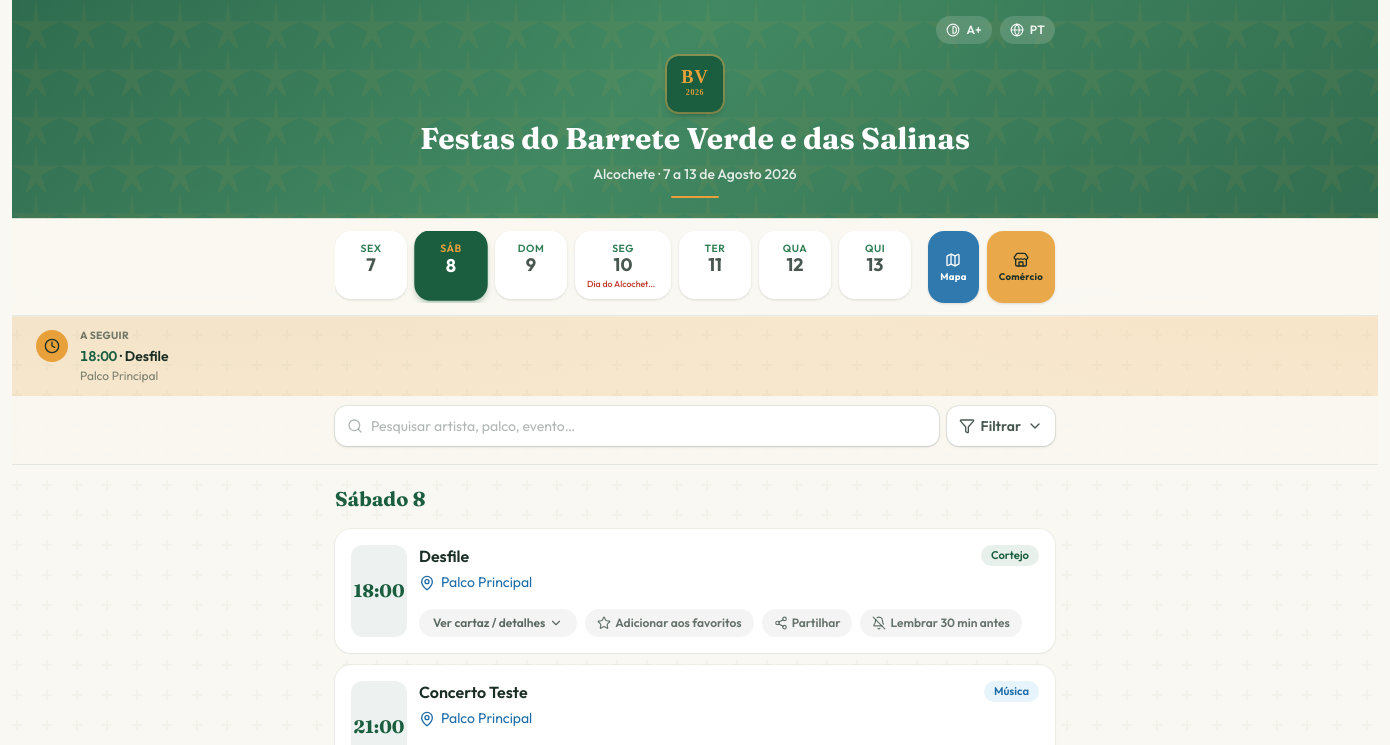
Test: PublicProgram › shows empty favorites state
Check: the heading "Concerto Teste" is shown, box [419,682,528,702]
Step 1. Click the button "Filtrar" → click(1001, 426), box [947,406,1055,446]
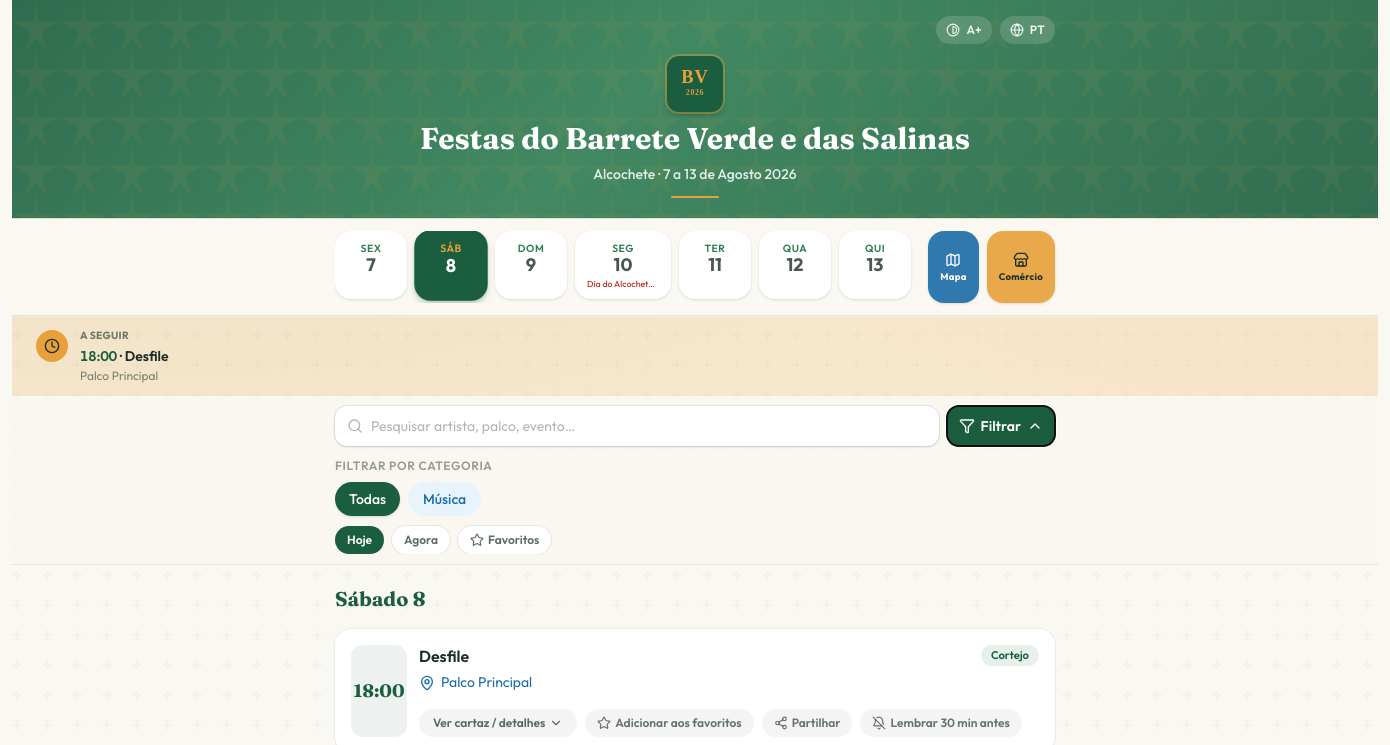
Step 2. Click the button "Favoritos" → click(505, 540), box [458,526,551,554]
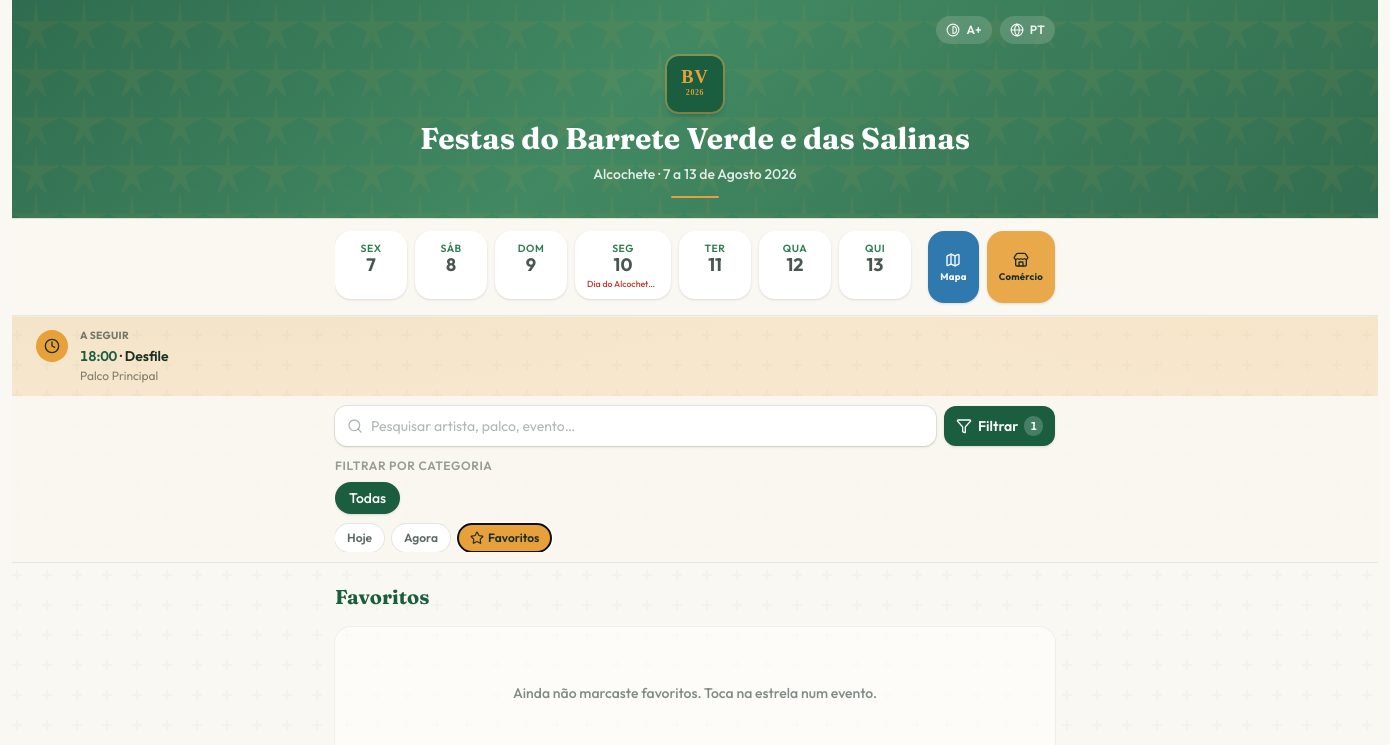
Check: the text "Ainda não marcaste favoritos. Toca na estrela num evento." is shown, box [513,684,877,702]
